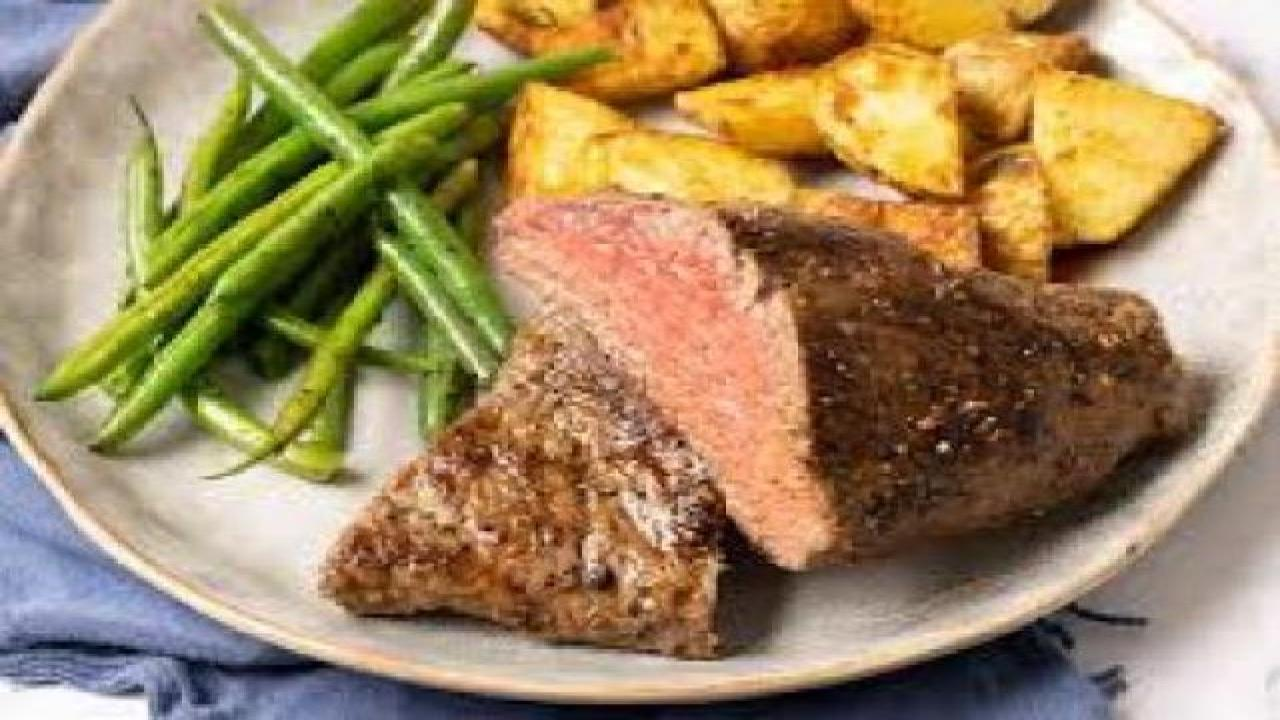Carne: (226, 201, 1234, 672)
